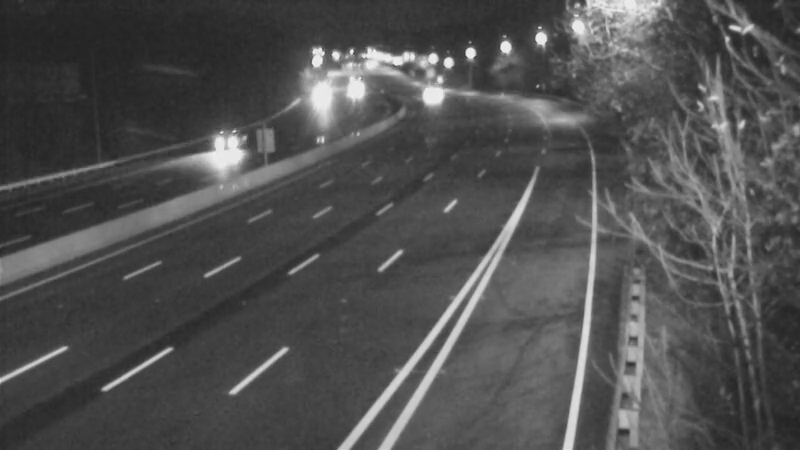vehicle: (394, 65, 444, 115), (197, 119, 247, 169), (290, 75, 340, 125), (329, 64, 379, 114)
